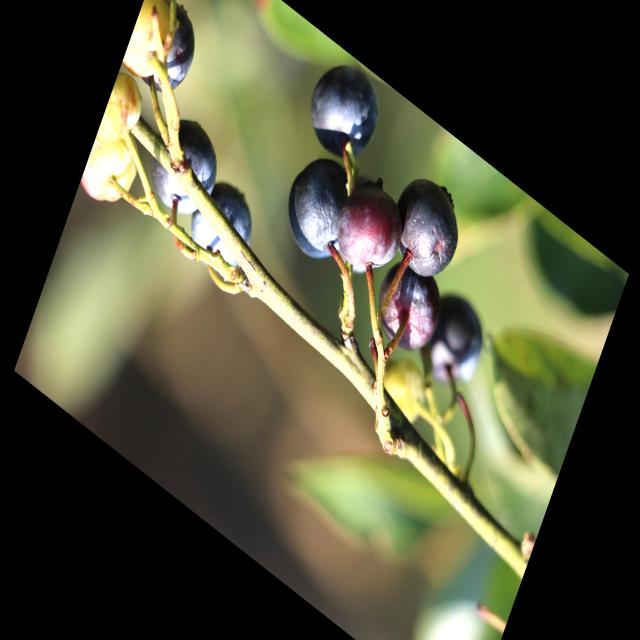blueberry: (136, 96, 232, 238), (274, 136, 368, 280), (380, 156, 474, 296), (297, 44, 390, 179), (325, 159, 414, 292), (365, 240, 453, 370), (412, 277, 496, 406), (182, 163, 266, 287), (130, 0, 207, 111)
blueberry-unripe: (78, 124, 142, 219), (120, 0, 181, 92), (98, 66, 151, 156), (148, 0, 202, 12)
